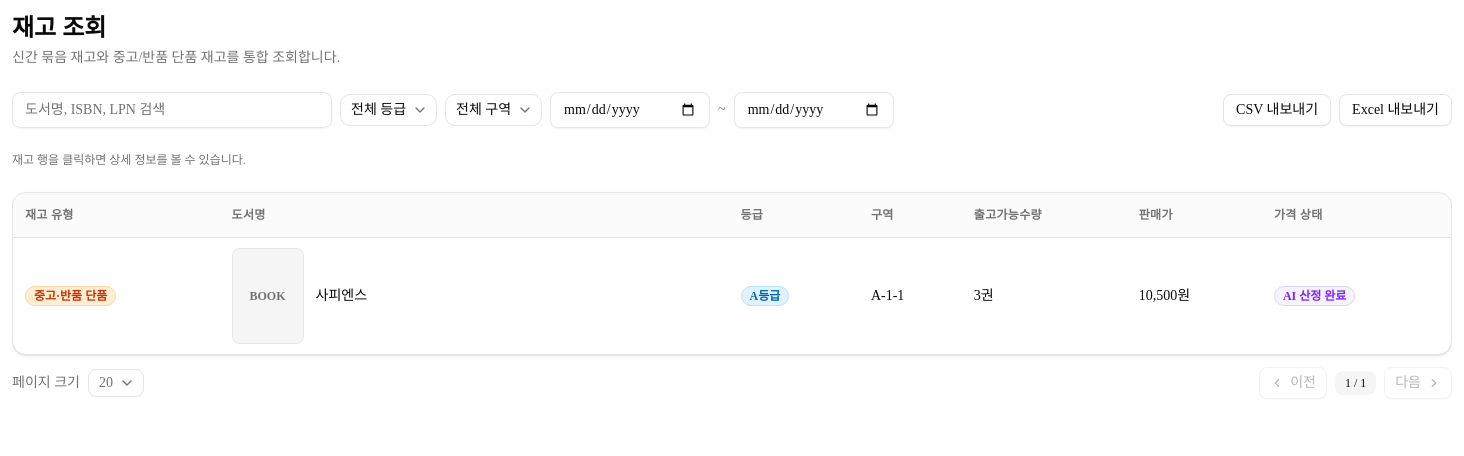
Test: InventoryGridView › 전체 내보내기 중 일부 페이지 조회가 실패하면 파일을 만들지 않고 오류를 표시한다
Expected: the text "사피엔스" is shown, [316,286,367,306]
Click the button "CSV 내보내기" at (1277, 110), box [1223,94,1331,126]
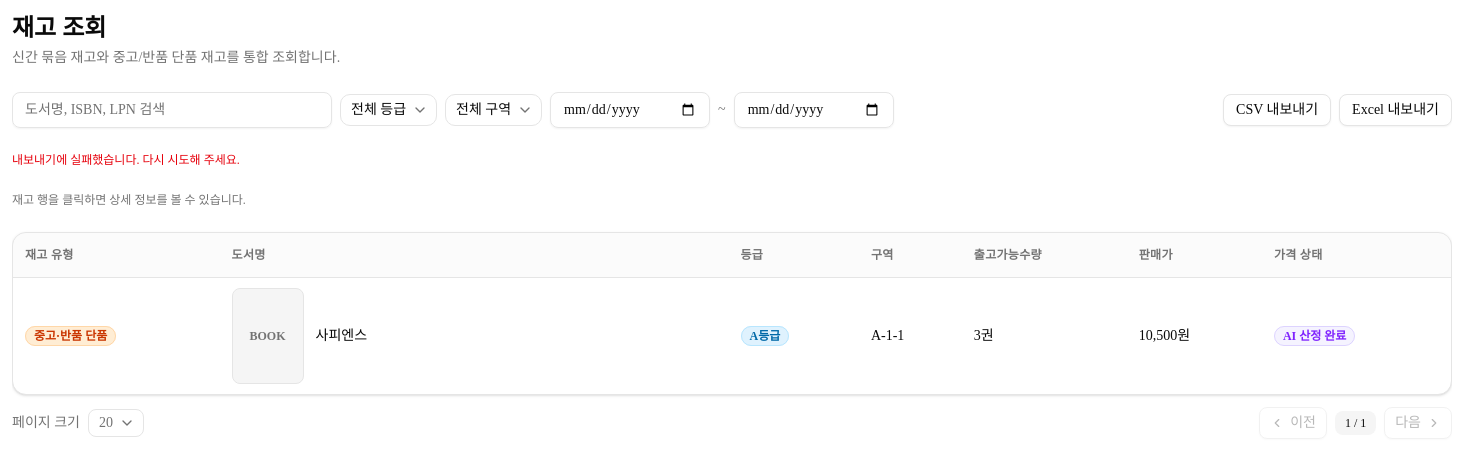
Expected: the text "내보내기에 실패했습니다. 다시 시도해 주세요." is shown, [12,153,240,167]
